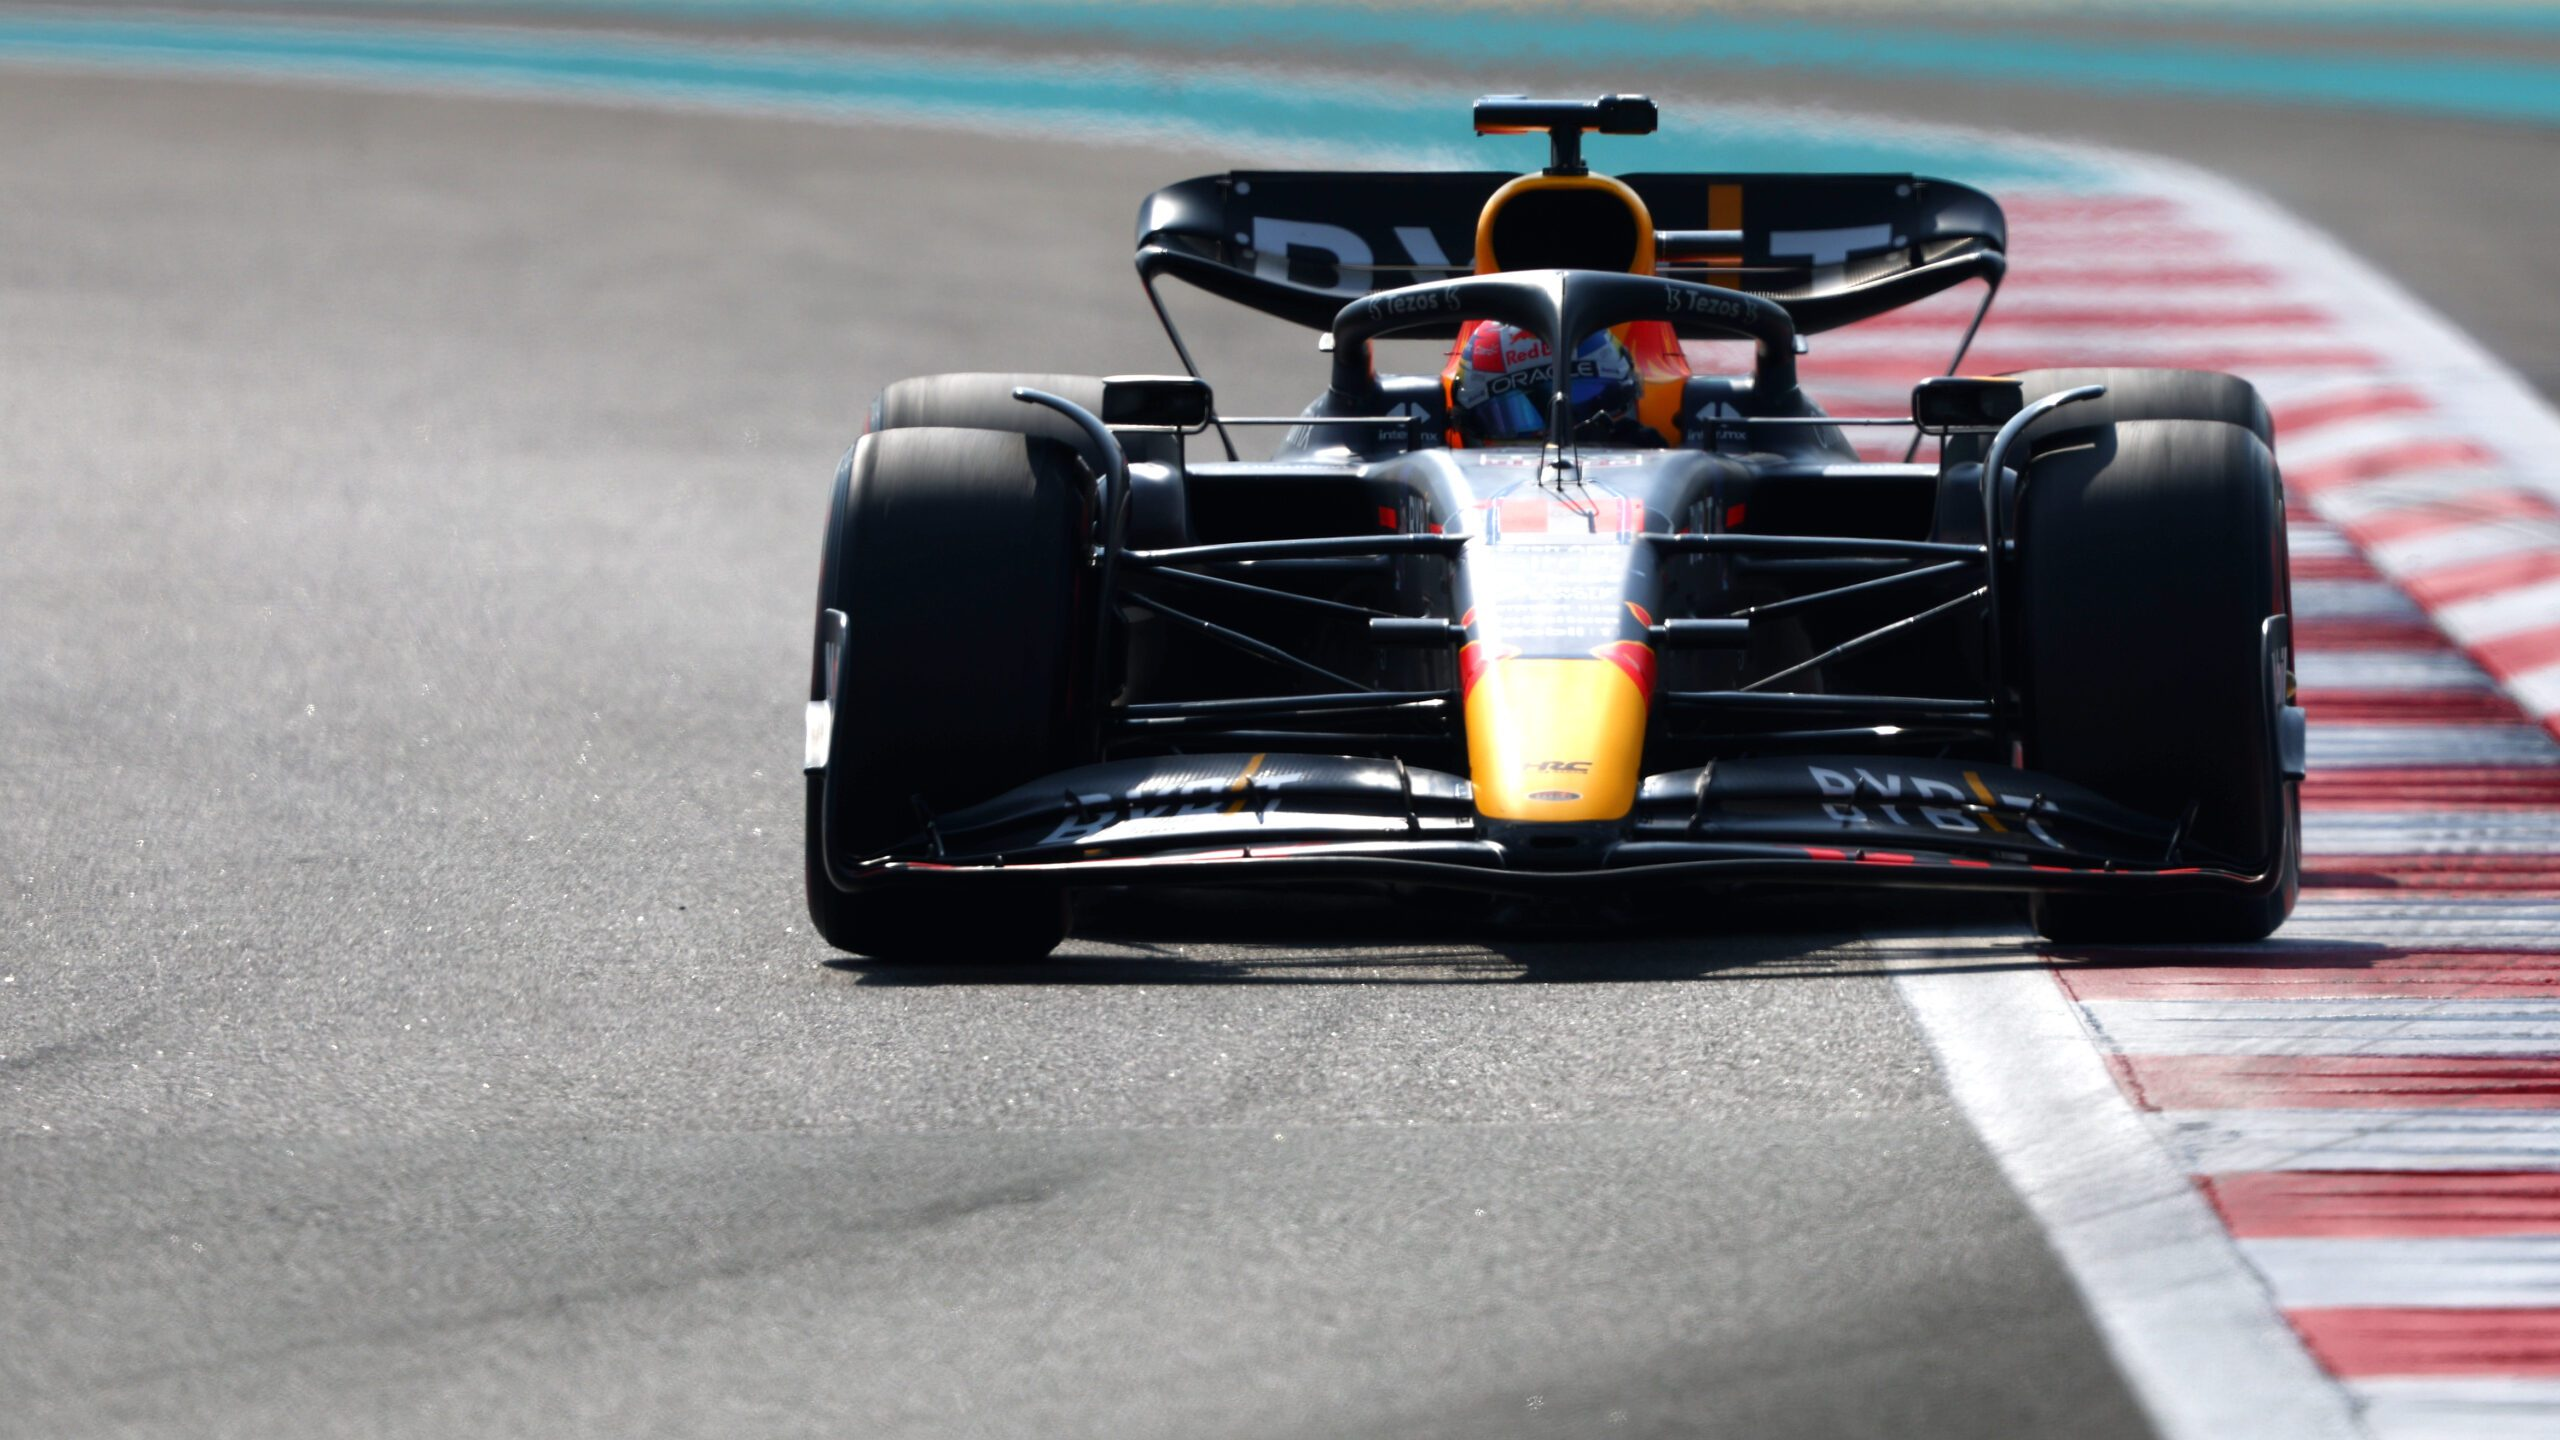Formule 1: (814, 174, 2287, 935)
